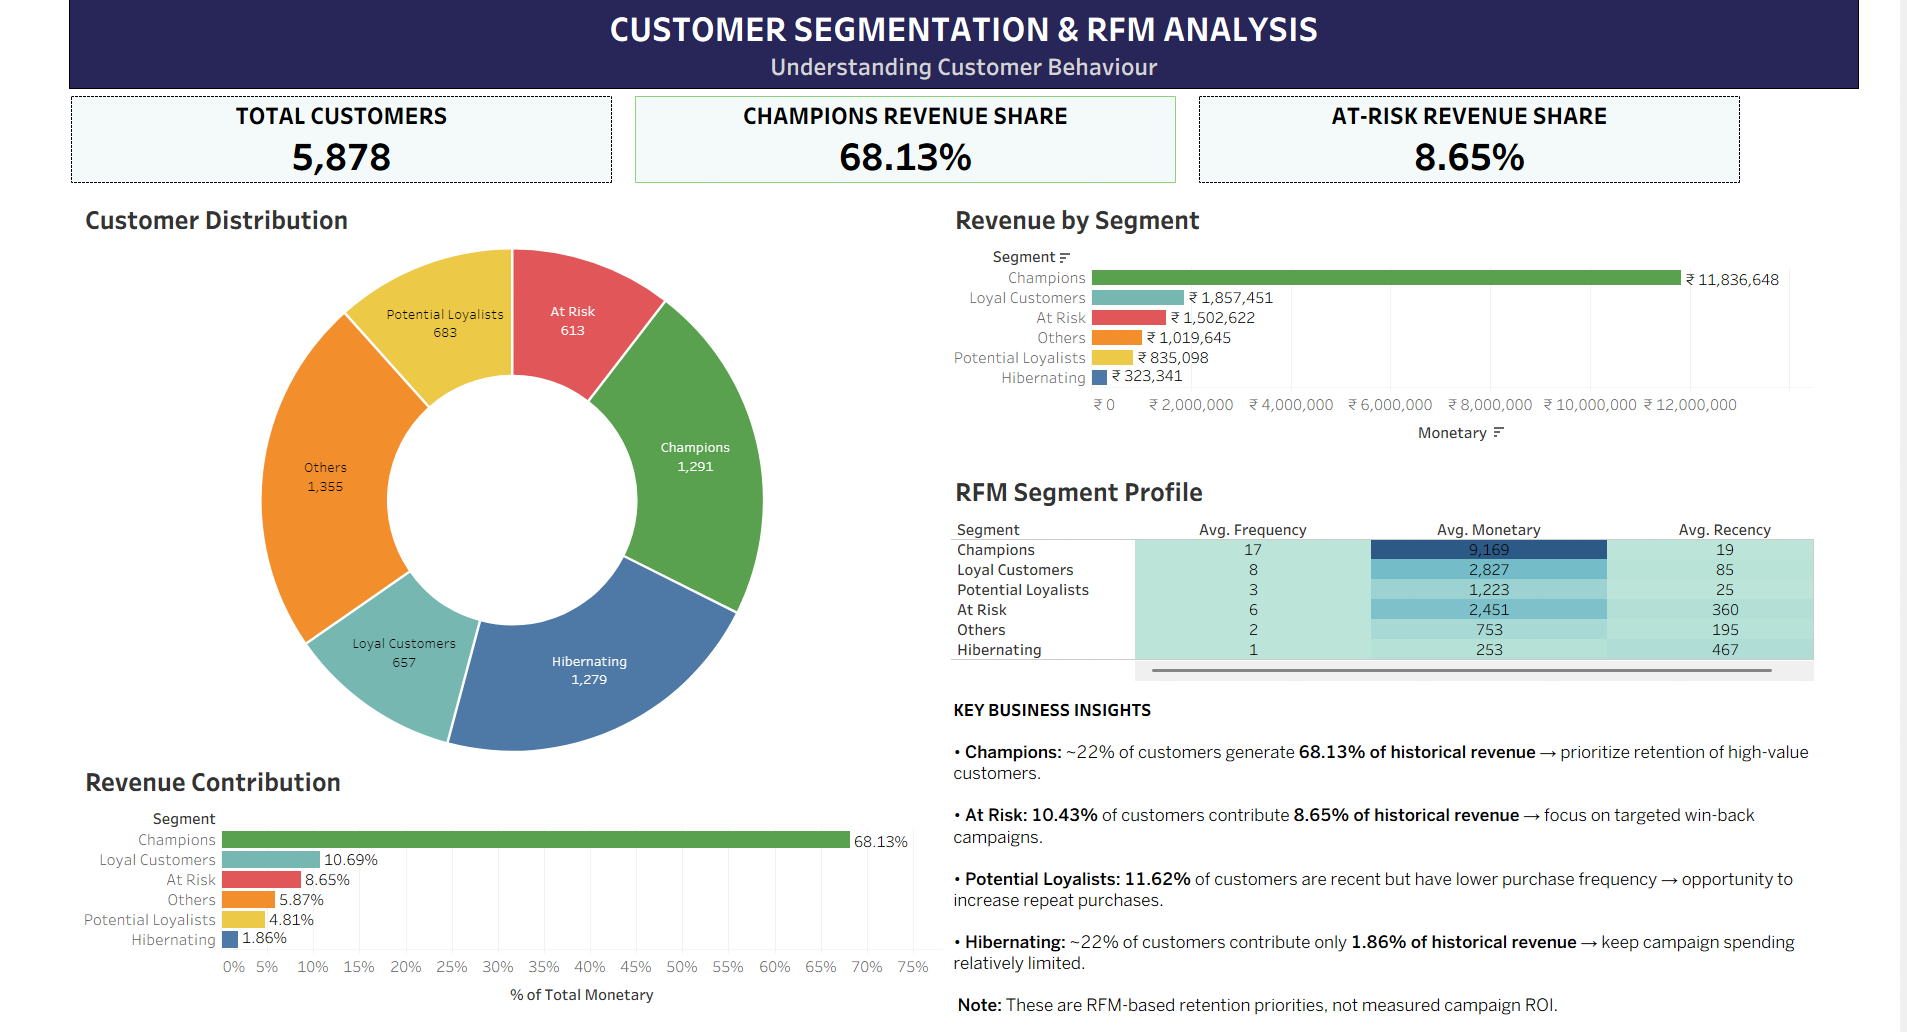

This screenshot's page, from the dashboard's own definition file:
{"tool":"tableau","page":{"name":"Dashboard 1","canvas":[1000,1000],"units":"permille","ordinal":0},"visuals":[{"type":"text","box":[1.2,102.8,307.8,82.8]},{"type":"text","box":[322.3,102.8,307.8,82.8]},{"type":"text","box":[643.3,102.8,307.8,82.8]},{"type":"worksheet","title":"Customer Distribution","mark":"VizExtension","box":[4.8,196,494.8,534.7]},{"type":"worksheet","title":"Revenue by Segment","mark":"Automatic","rows":["Segment"],"cols":["Monetary"],"box":[499.7,196,495.5,258.7]},{"type":"worksheet","title":"RFM Segment Profile","mark":"Square","rows":["Segment"],"box":[499.7,454.7,495.5,537.7]},{"type":"text","box":[501.5,670.8,494.3,318.7]},{"type":"worksheet","title":"Revenue Contribution","mark":"Automatic","rows":["Segment"],"cols":["Monetary"],"box":[4.8,730.7,494.8,261.7]}]}

Visuals, with their boxes on the dashboard's canvas, which has no fixed pixel size, in thousandths of its width and height (x1, y1, x2, y2). These are canvas units, not pixel positions in the 1907x1032 screenshot, which may show the page scaled, cropped or inside an application window:
text: [1, 103, 309, 186]
text: [322, 103, 630, 186]
text: [643, 103, 951, 186]
"Customer Distribution" worksheet (VizExtension marks): [5, 196, 500, 731]
"Revenue by Segment" worksheet: [500, 196, 995, 455]
"RFM Segment Profile" worksheet (Square marks): [500, 455, 995, 992]
text: [502, 671, 996, 990]
"Revenue Contribution" worksheet: [5, 731, 500, 992]
